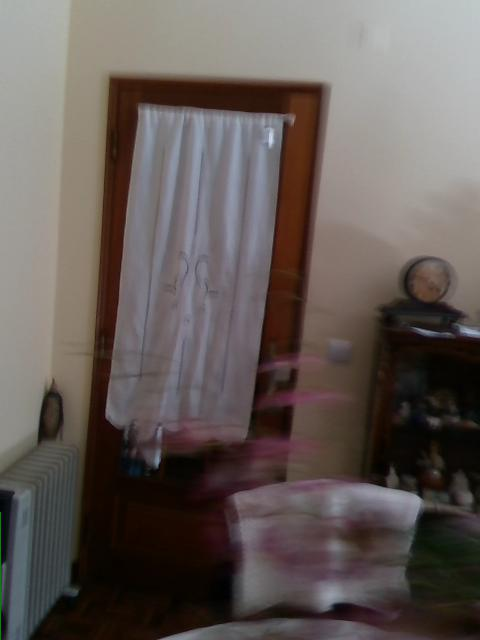closed_door: (74, 75, 332, 594)
